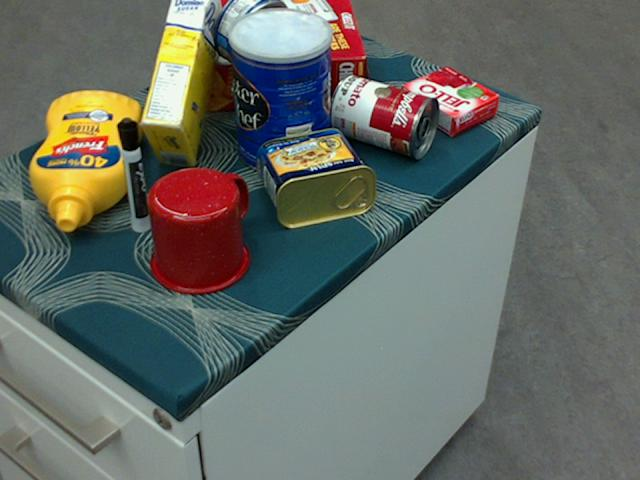cracker_box: (173, 0, 365, 112)
gelatin_box: (399, 67, 498, 134)
large_marker: (115, 117, 151, 231)
master_chef_can: (228, 7, 332, 175)
mug: (147, 165, 250, 293)
mustard_bottle: (29, 91, 141, 231)
potted_meat_can: (255, 125, 376, 229)
sugar_box: (141, 0, 225, 168)
tomato_soup_can: (328, 73, 440, 158)
tuna_fish_can: (213, 0, 290, 70)
